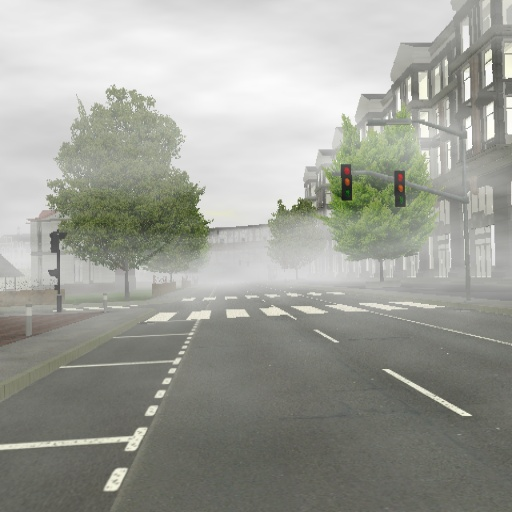Traffic lights: (388, 165, 414, 206), (337, 155, 357, 204)
